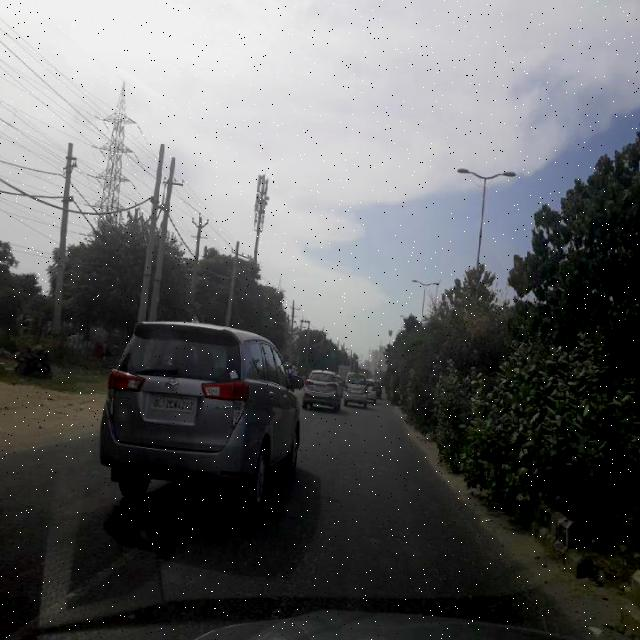D20: (289, 420, 525, 618), (0, 505, 277, 635)
